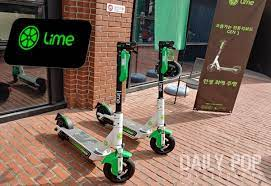kick_handler: (117, 41, 139, 54), (158, 40, 176, 50)
kick_neck: (115, 56, 125, 148), (158, 55, 167, 124)
kick_wheel: (104, 151, 136, 183), (150, 130, 174, 153), (95, 102, 110, 125), (55, 113, 68, 139)
